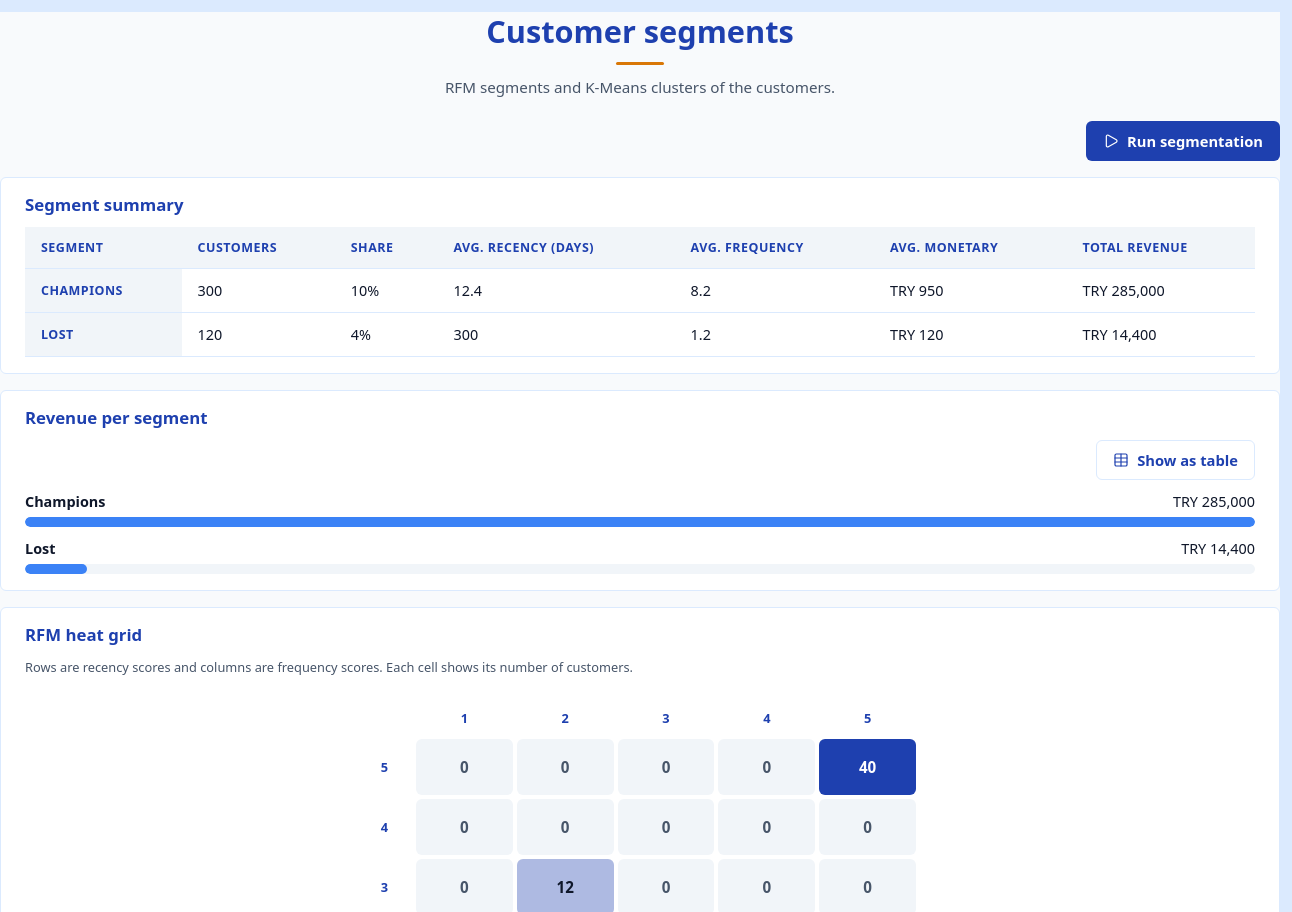
Test case: the revenue per segment is drawn as bars and can be shown as a table
The width and height of the screenshot is (1292, 912).
Check: the table named "Segment summary" is shown, box [25,227,1255,357]
Check: the list named "Total revenue of 2 segments" is shown, box [25,492,1255,574]
What coordinates should you click on to do the following:
click the button "Show as table"
I would click on:
 (1176, 460)
Its box is [1096,440,1255,480].
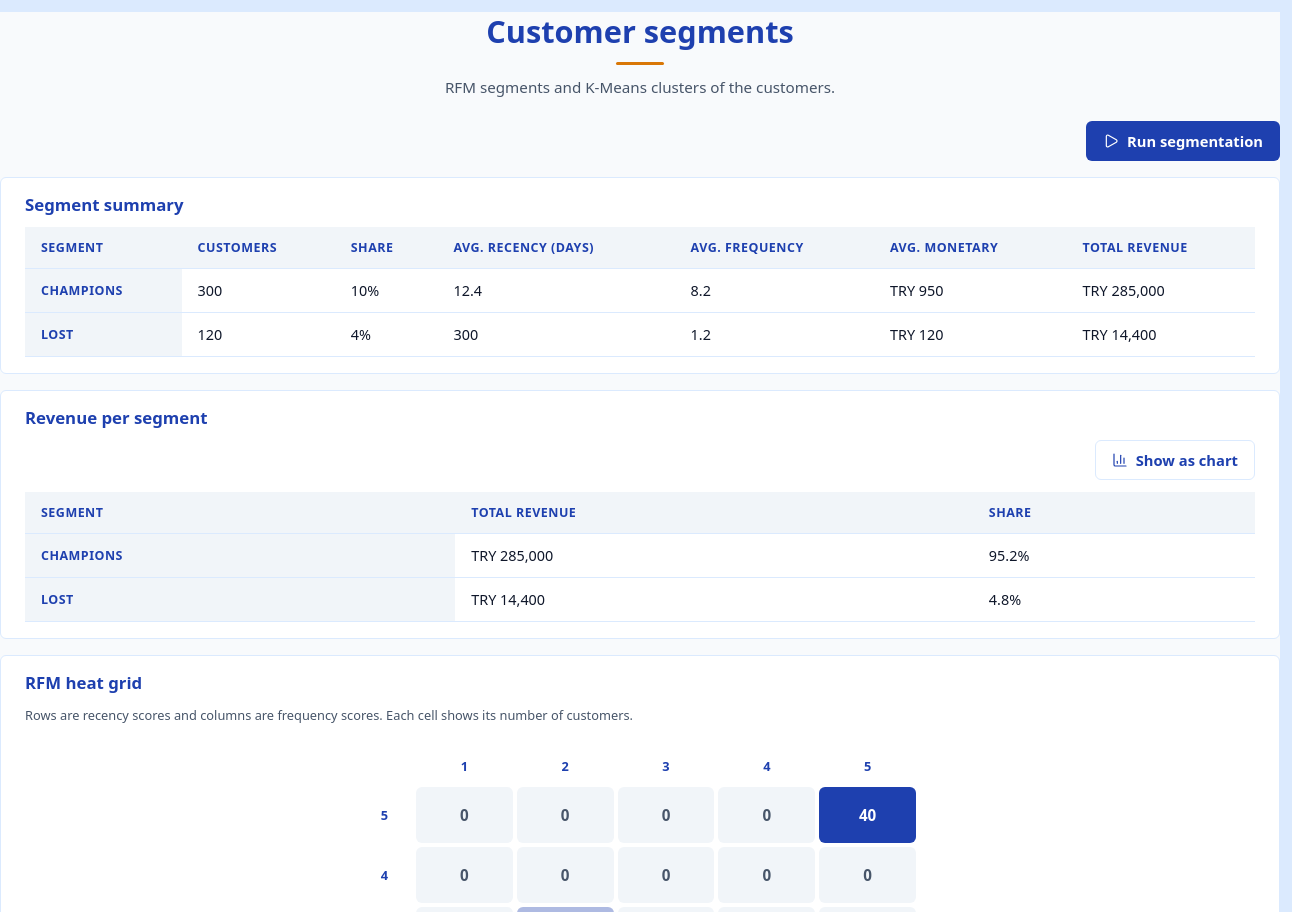
Check: the column heading "Lost" in the row of "4.8%" is shown, box [41,591,74,608]
Check: the button "Show as chart" is shown, box [1095,440,1255,480]
